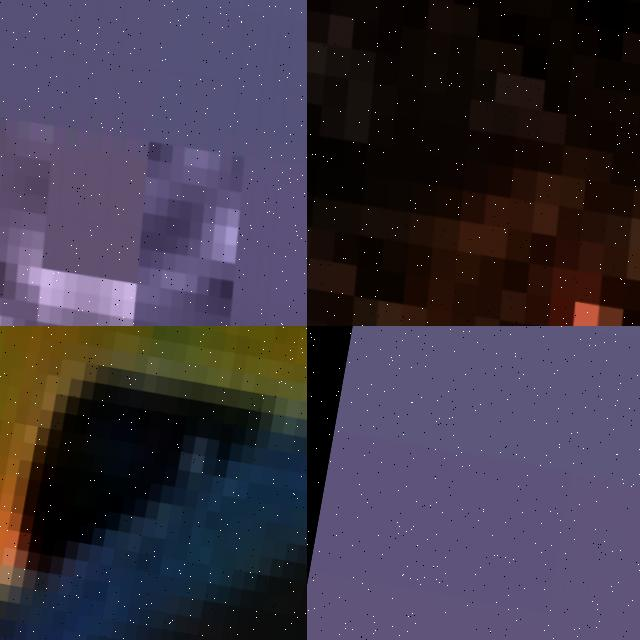0: (0, 0, 307, 326)
drone: (307, 0, 640, 326)
